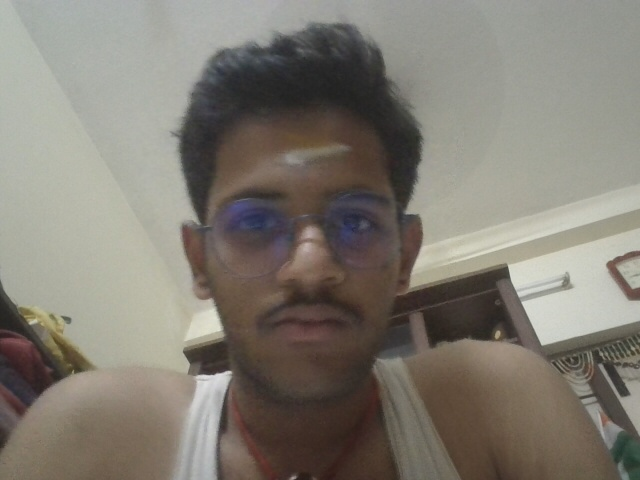real: (182, 122, 434, 374)
